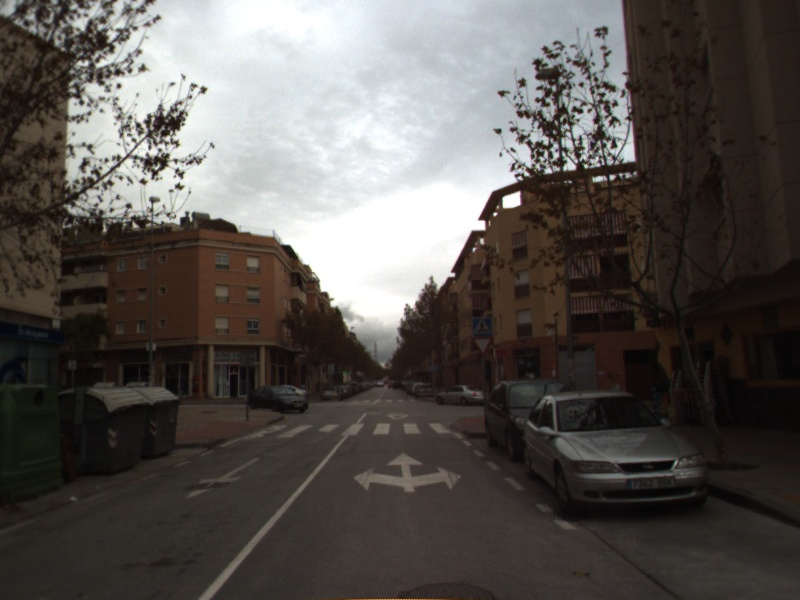STRAIGHT_LEFT_RIGHT: (351, 450, 463, 495)
